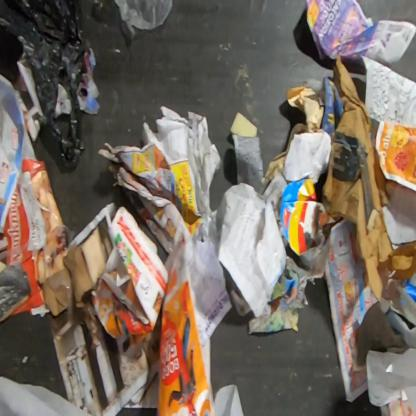cardboard: (320, 56, 394, 304), (0, 157, 70, 325), (44, 226, 107, 317)
soft_plastic: (0, 0, 91, 171), (113, 0, 174, 40)
